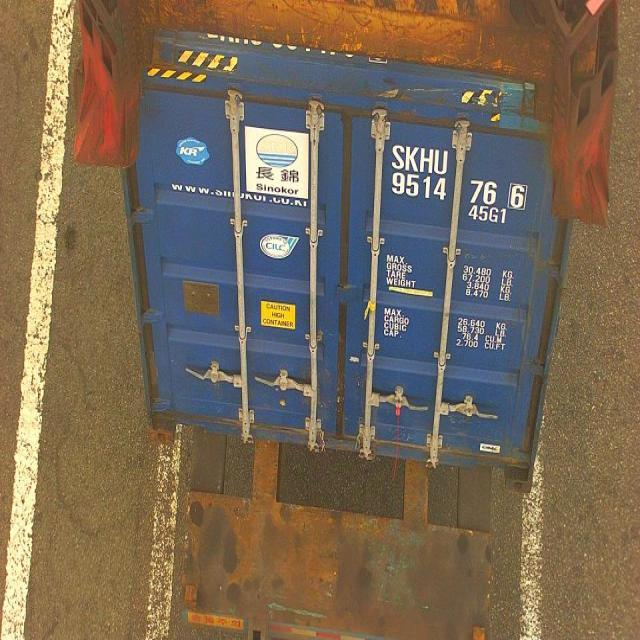ISO: (467, 206, 510, 224)
container_number: (388, 142, 532, 206)
